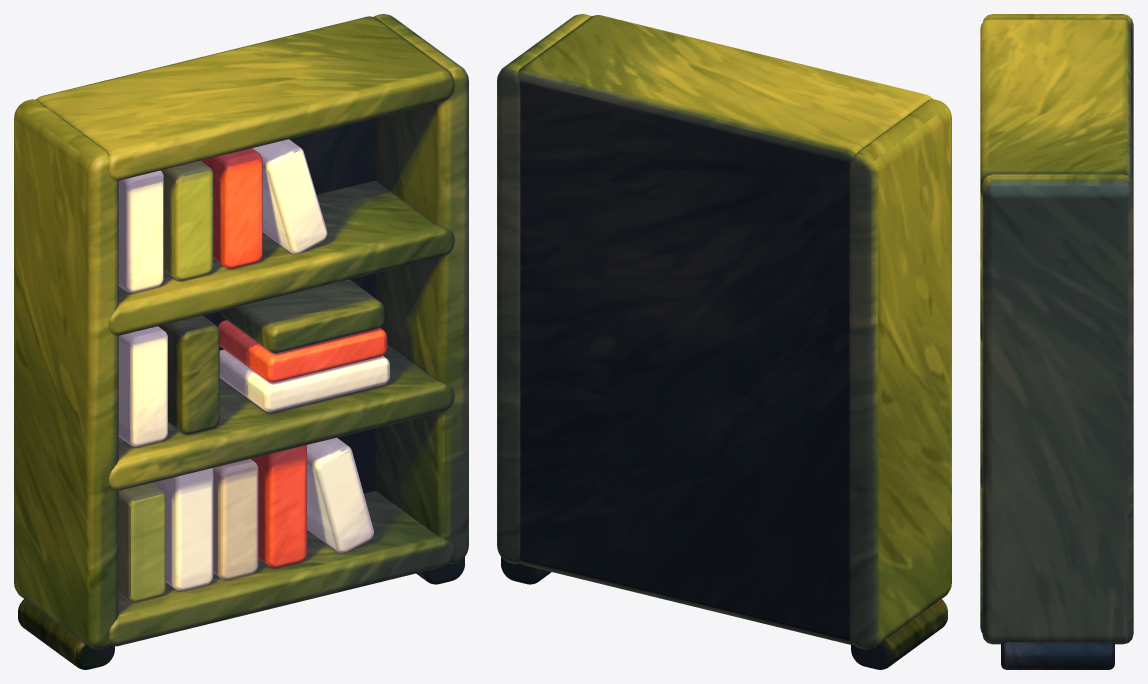
The model's file is collections.glb.
The picture shows the model from 3 angles, left to right: view 1: azimuth 30°, elevation 25°; view 2: azimuth 150°, elevation 25°; view 3: azimuth 270°, elevation 25°; orthographic projection. The views are drawn at different scales.
Parts seen in each view (by area): view 1: Upright, Shelf.003, Upright.001, Shelf.002, Shelf, Shelf.001, Stacked volume.002, Recessed back, Cloth-bound volume.004, Cloth-bound volume.006, Cloth-bound volume.009, Cloth-bound volume.008 (+11 smaller); view 2: Recessed back, Upright, Shelf.003, Upright.001, Foot, Shelf, Foot.001; view 3: Upright.001, Shelf.003, Foot.001, Upright, Shelf, Shelf.001, Shelf.002, Recessed back.
Part boxes in pixels (x1,y1,x2,y2): Upright: (14, 99, 118, 649); Shelf.003: (36, 16, 454, 180); Upright.001: (374, 14, 468, 564); Shelf.002: (109, 180, 454, 335); Shelf: (109, 491, 454, 646); Shelf.001: (109, 344, 454, 490); Stacked volume.002: (220, 279, 384, 353); Recessed back: (203, 118, 375, 493); Cloth-bound volume.004: (307, 437, 373, 552); Cloth-bound volume.006: (158, 315, 219, 434); Cloth-bound volume.009: (201, 148, 262, 268); Cloth-bound volume.008: (161, 160, 213, 280); Recessed back: (519, 81, 850, 640); Upright: (849, 99, 951, 649); Shelf.003: (517, 15, 932, 161); Upright.001: (497, 14, 591, 564); Foot: (851, 599, 947, 669); Shelf: (519, 560, 853, 644); Foot.001: (501, 557, 551, 584); Upright.001: (982, 174, 1133, 644); Shelf.003: (980, 19, 1131, 196); Foot.001: (1001, 642, 1114, 669); Upright: (983, 14, 1133, 184); Shelf: (980, 483, 982, 632); Shelf.001: (980, 337, 982, 487); Shelf.002: (980, 192, 982, 341); Recessed back: (1131, 29, 1132, 179).
Size of the model in its own units: 1.82 by 2.32 by 0.658.
Materials: 6 (6 with a texture image).
